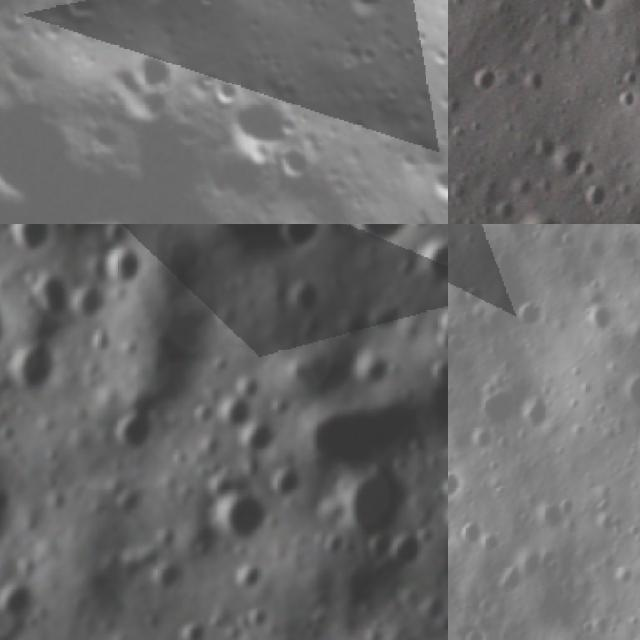crater: (286, 349, 441, 505), (0, 68, 101, 224), (166, 224, 371, 298), (319, 451, 436, 568), (213, 81, 316, 182), (202, 475, 284, 558), (94, 391, 170, 468), (0, 325, 72, 401), (115, 38, 187, 111), (327, 224, 444, 266), (18, 261, 88, 330), (266, 137, 333, 204), (92, 235, 157, 299), (378, 517, 442, 580), (345, 338, 405, 398), (464, 377, 524, 436), (0, 564, 51, 633), (46, 0, 122, 44), (63, 270, 121, 327), (350, 519, 406, 575), (194, 456, 249, 511), (407, 224, 448, 294), (268, 224, 339, 264), (224, 550, 277, 603), (0, 224, 67, 265), (143, 546, 195, 598), (361, 290, 412, 340), (308, 516, 359, 566), (456, 52, 506, 102), (280, 270, 330, 320), (334, 0, 400, 37), (236, 591, 284, 640), (227, 363, 274, 411), (211, 389, 259, 436), (108, 479, 156, 526), (533, 492, 578, 537), (574, 175, 618, 218), (168, 606, 222, 640), (0, 473, 29, 531), (184, 393, 225, 434), (421, 152, 448, 211), (505, 203, 579, 224), (582, 296, 620, 333), (455, 510, 487, 551), (264, 391, 300, 426), (512, 295, 547, 331), (546, 624, 624, 640), (93, 224, 135, 251), (609, 82, 640, 114), (448, 457, 467, 506), (574, 0, 617, 18), (429, 351, 448, 388), (435, 491, 448, 542), (435, 295, 448, 343), (448, 505, 461, 552), (448, 107, 460, 156), (448, 4, 458, 38)
